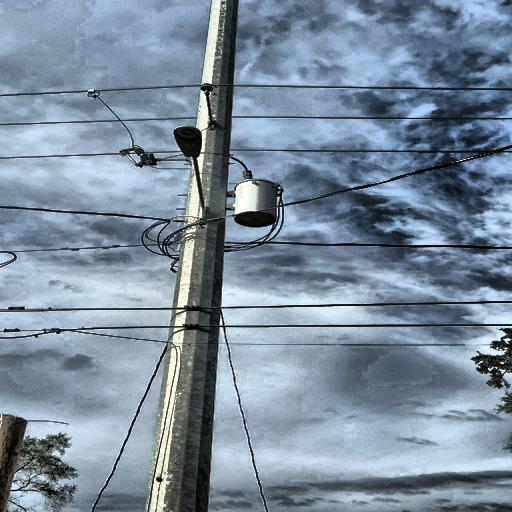pole: (111, 0, 257, 512)
street light: (164, 119, 216, 232)
transformer: (227, 175, 284, 231)
